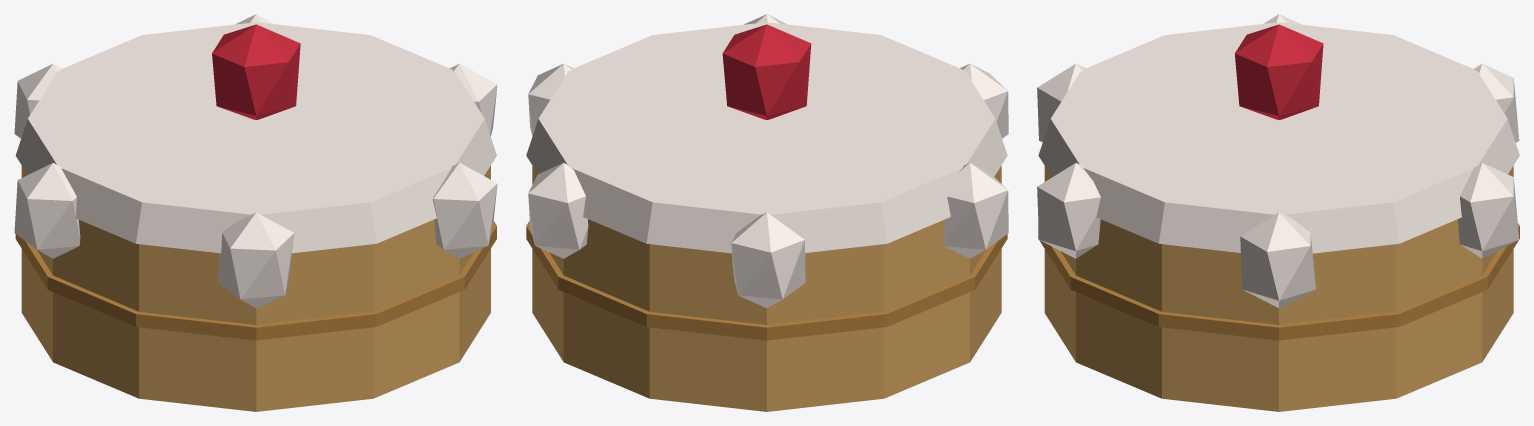
The model's file is drop_cake.glb.
3 views of the same model, side by side, from view 1: azimuth 30°, elevation 25°; view 2: azimuth 150°, elevation 25°; view 3: azimuth 270°, elevation 25° (orthographic).
Visible parts, largest first — view 1: drop_cake; view 2: drop_cake; view 3: drop_cake.
Boxes of the visible parts, x1,y1,x2,y2 form: drop_cake: (14,14,497,411); drop_cake: (526,14,1008,411); drop_cake: (1037,14,1519,411).
Size of the model in its own units: 0.2672 by 0.156 by 0.2366.
